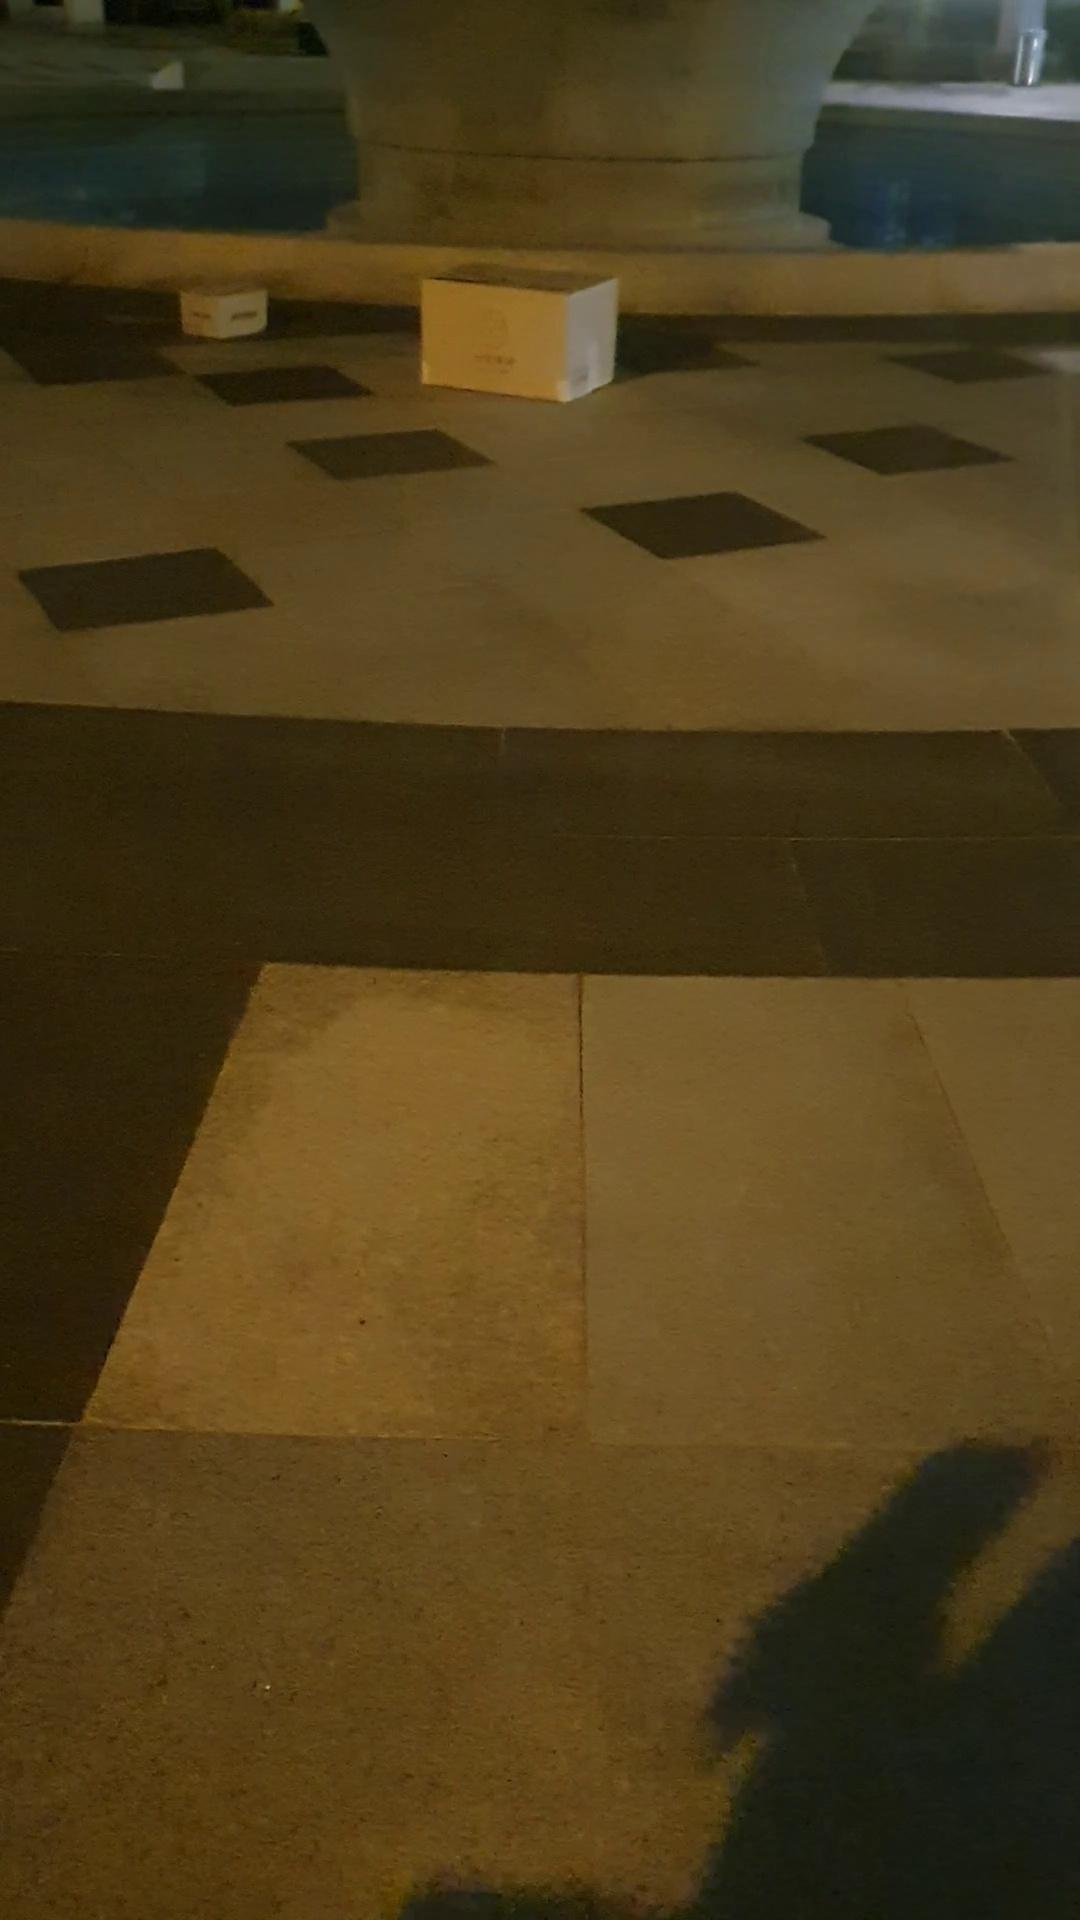Box: (406, 265, 633, 415), (175, 262, 284, 363)
